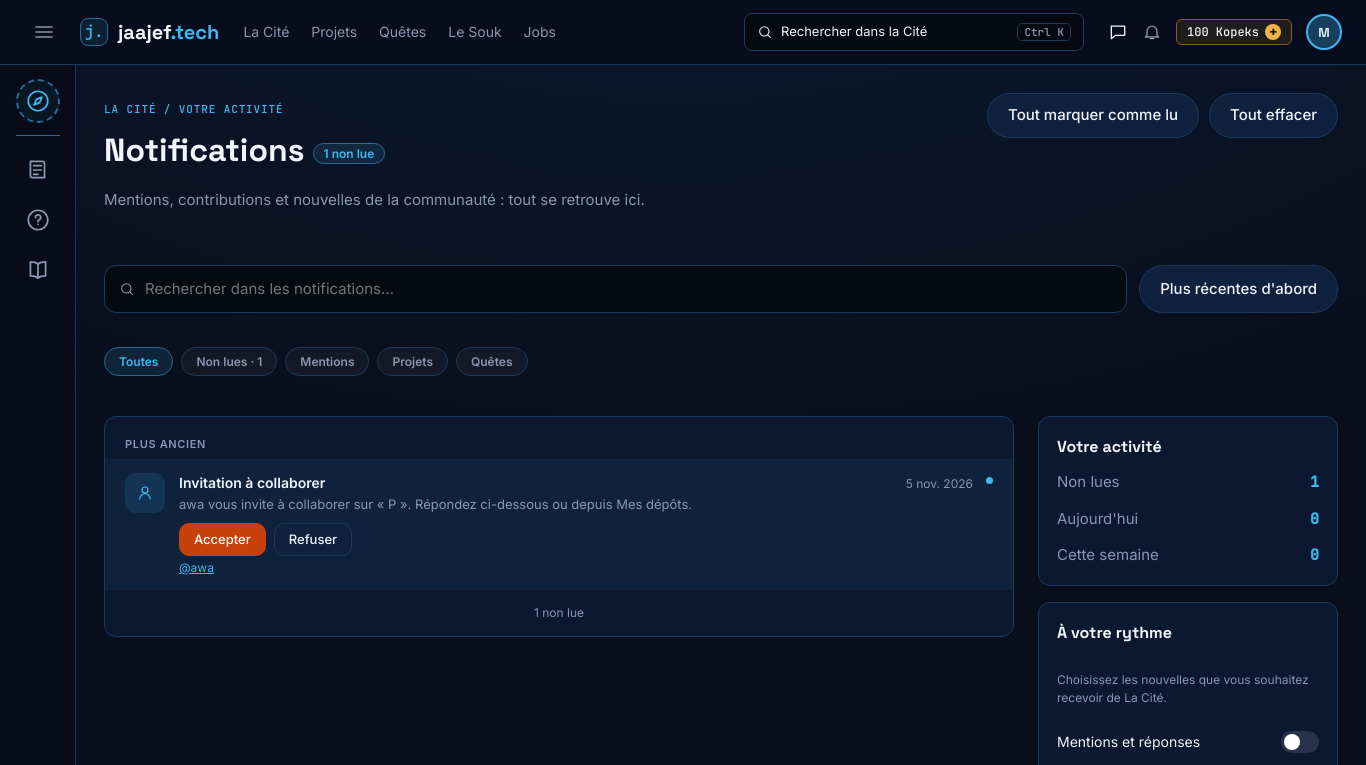
Test case: Notifications page › replaces the buttons by a message when the invitation is no longer valid
This screenshot has width=1366, height=765.
Click the button "Accepter" at coordinates (222, 540), box [179,523,266,556]
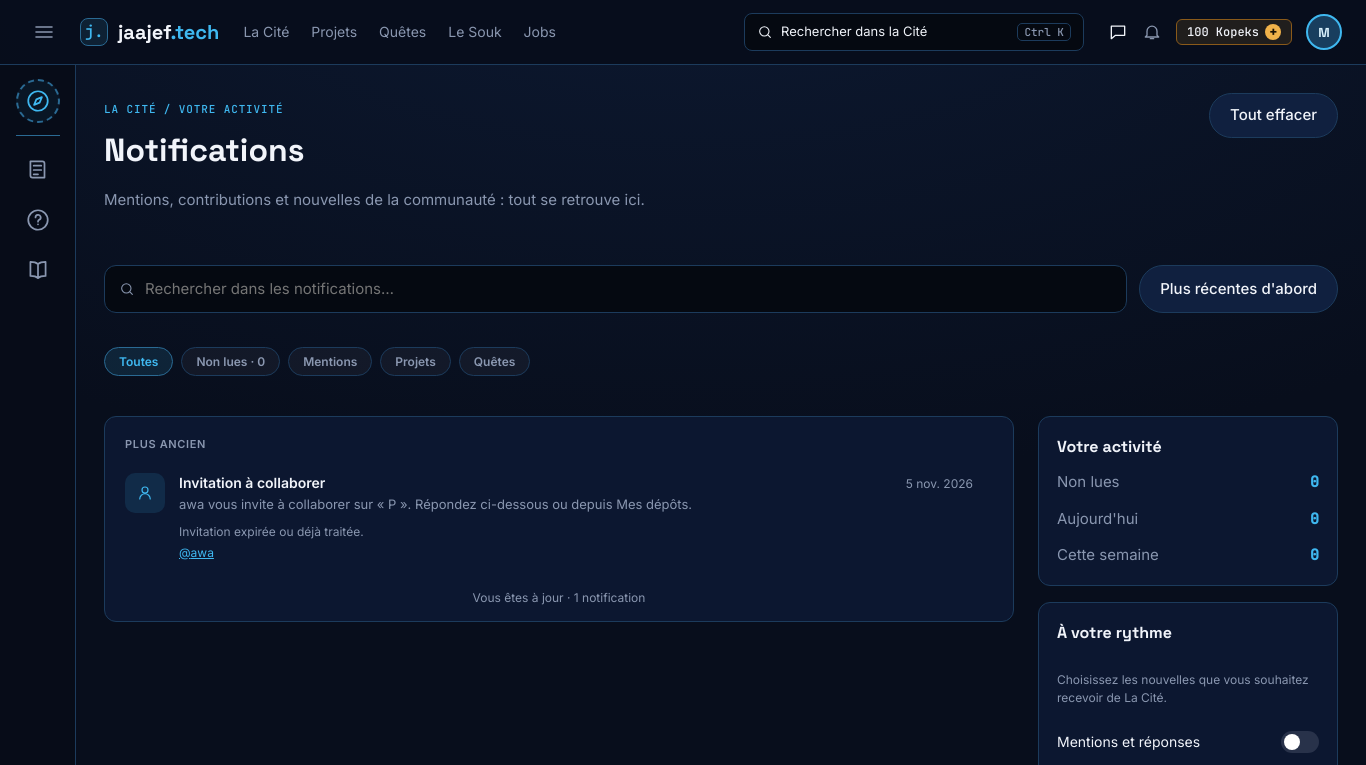
Now the text "Invitation expirée ou déjà traitée." is shown, box [179,523,364,540]
Now the button "Accepter" is gone
